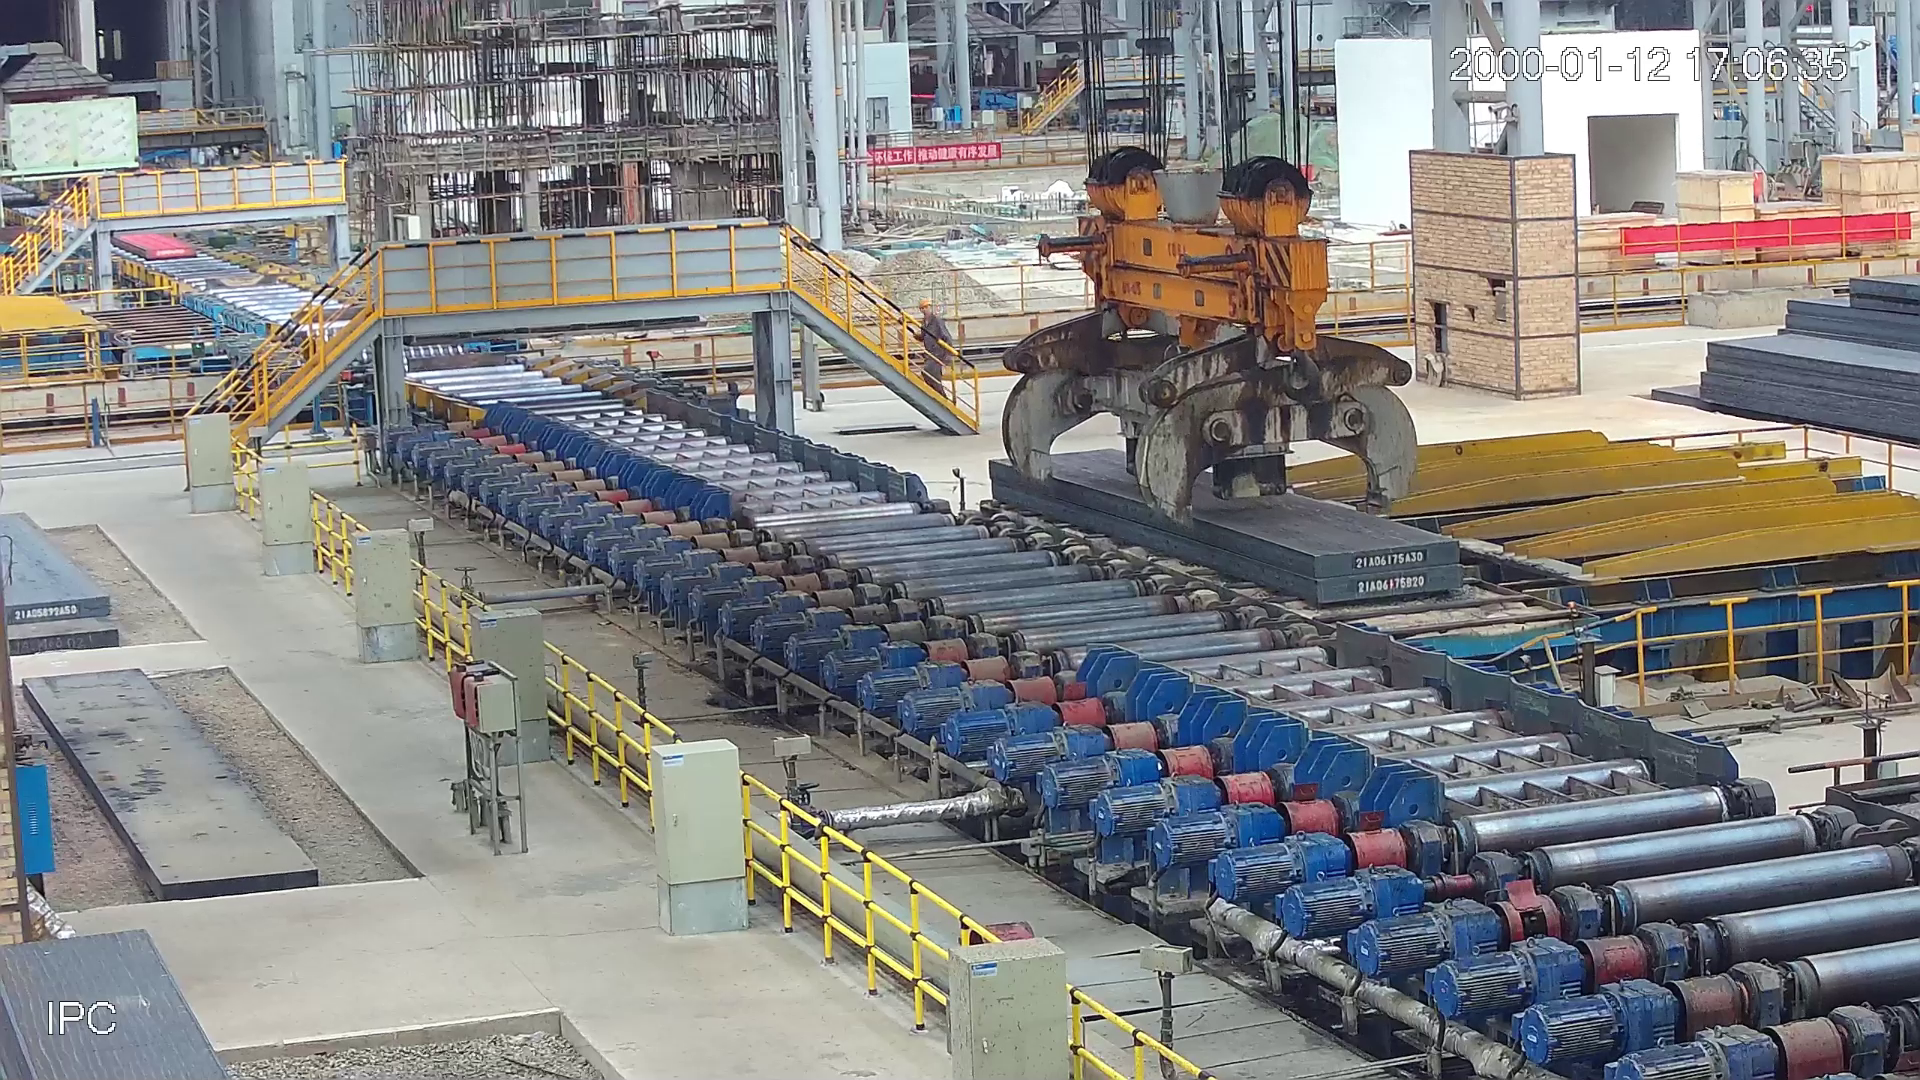craneandslab: (982, 142, 1469, 609)
slab: (109, 233, 196, 262)
